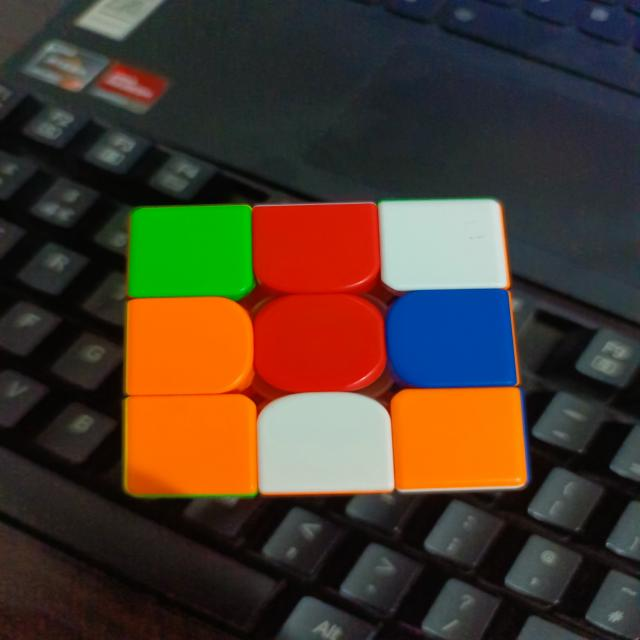rubik: (120, 198, 530, 499)
